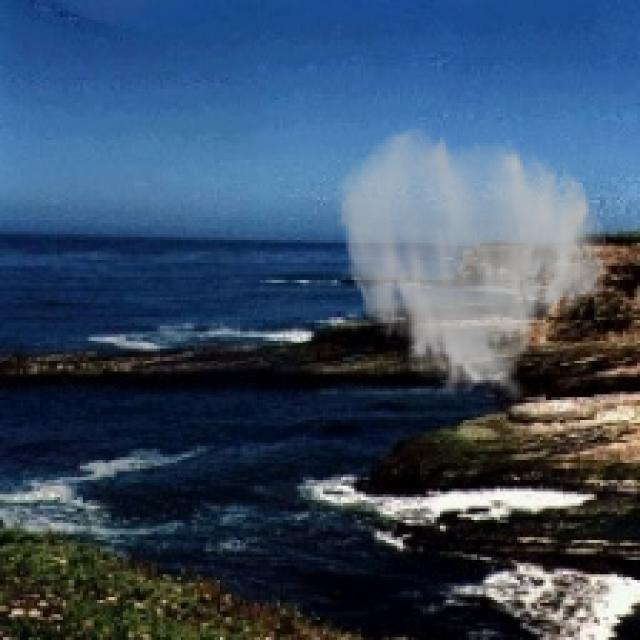Smoke: (334, 123, 612, 406)
